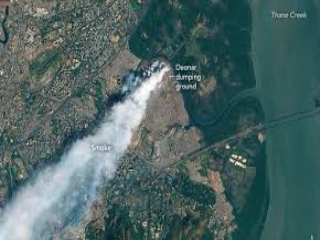smoke: (6, 49, 183, 238)
